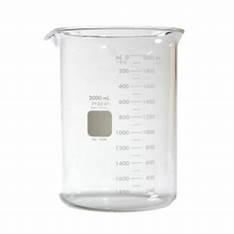Beaker: (40, 18, 189, 212)
